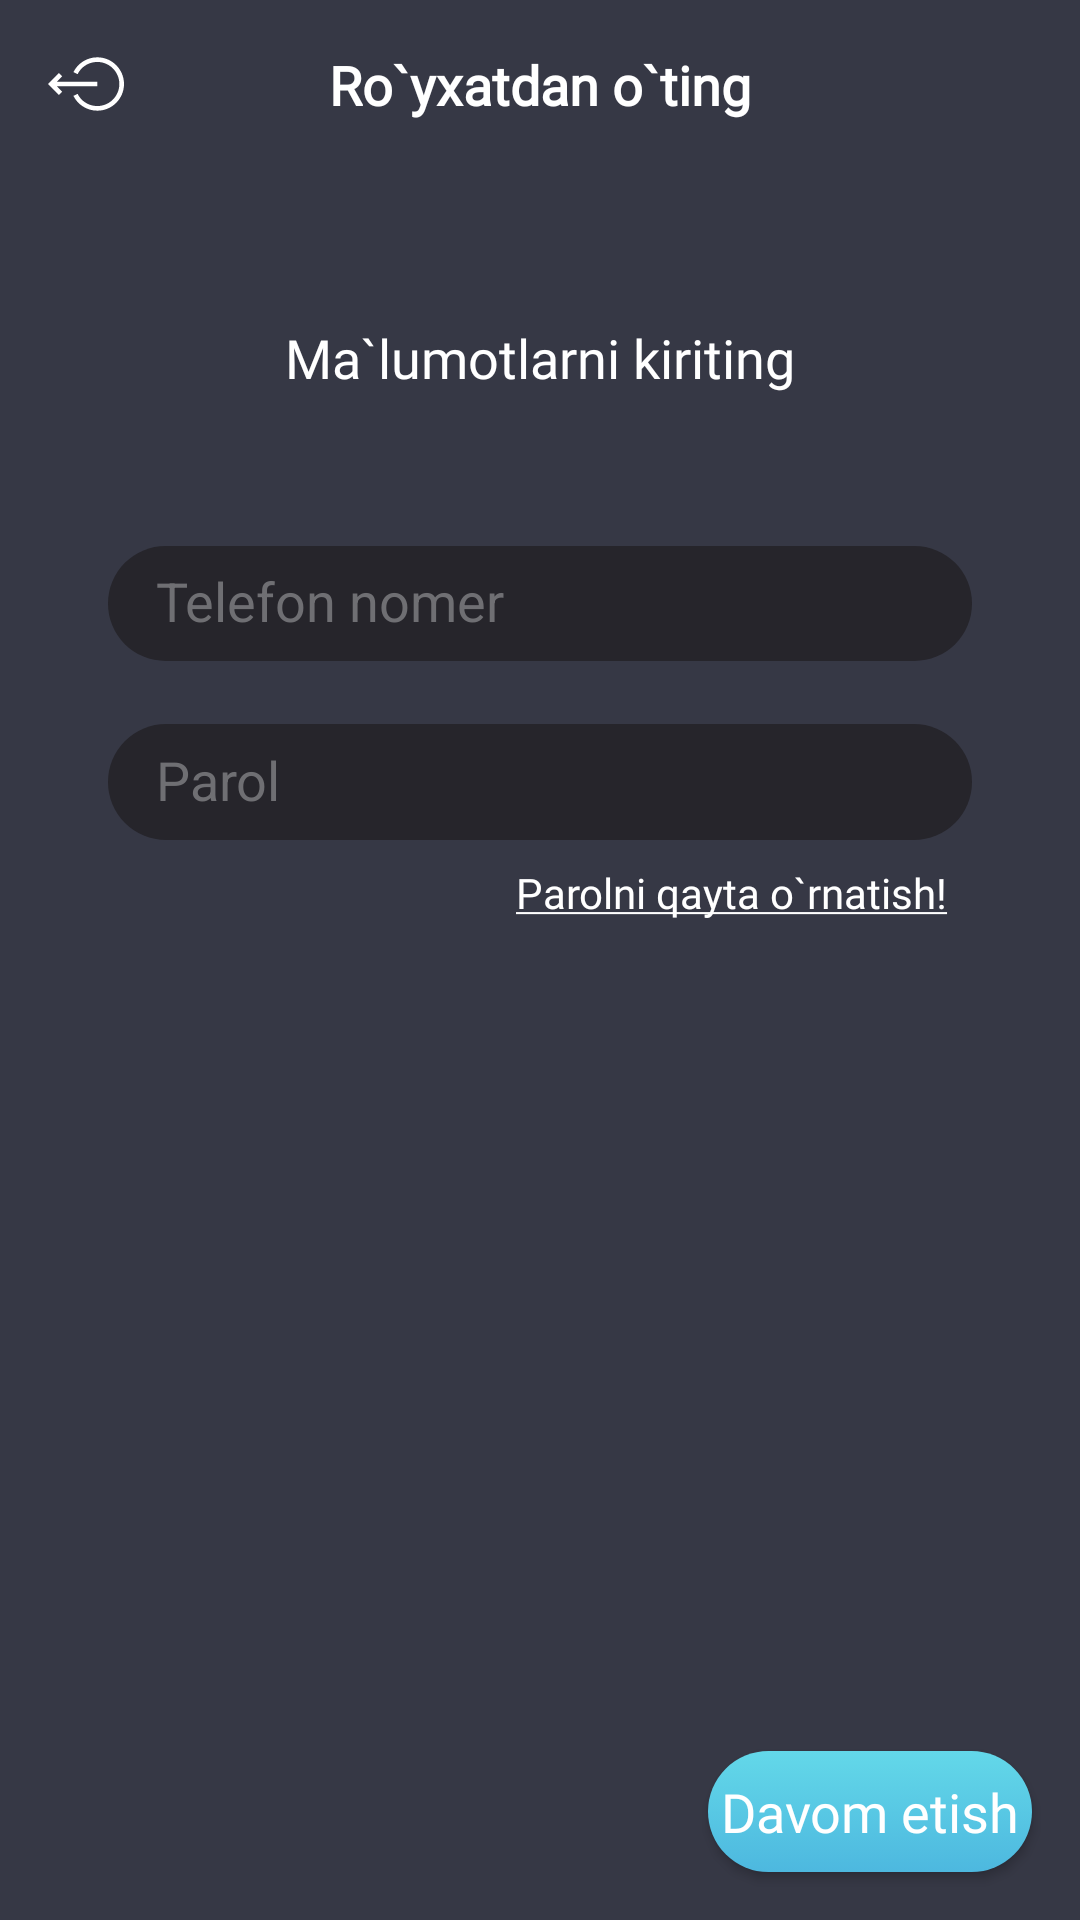

Named icons in this screenshot (1080 x 1920) and their centers, (x=x, y=y):
log out: (x=86, y=84)
